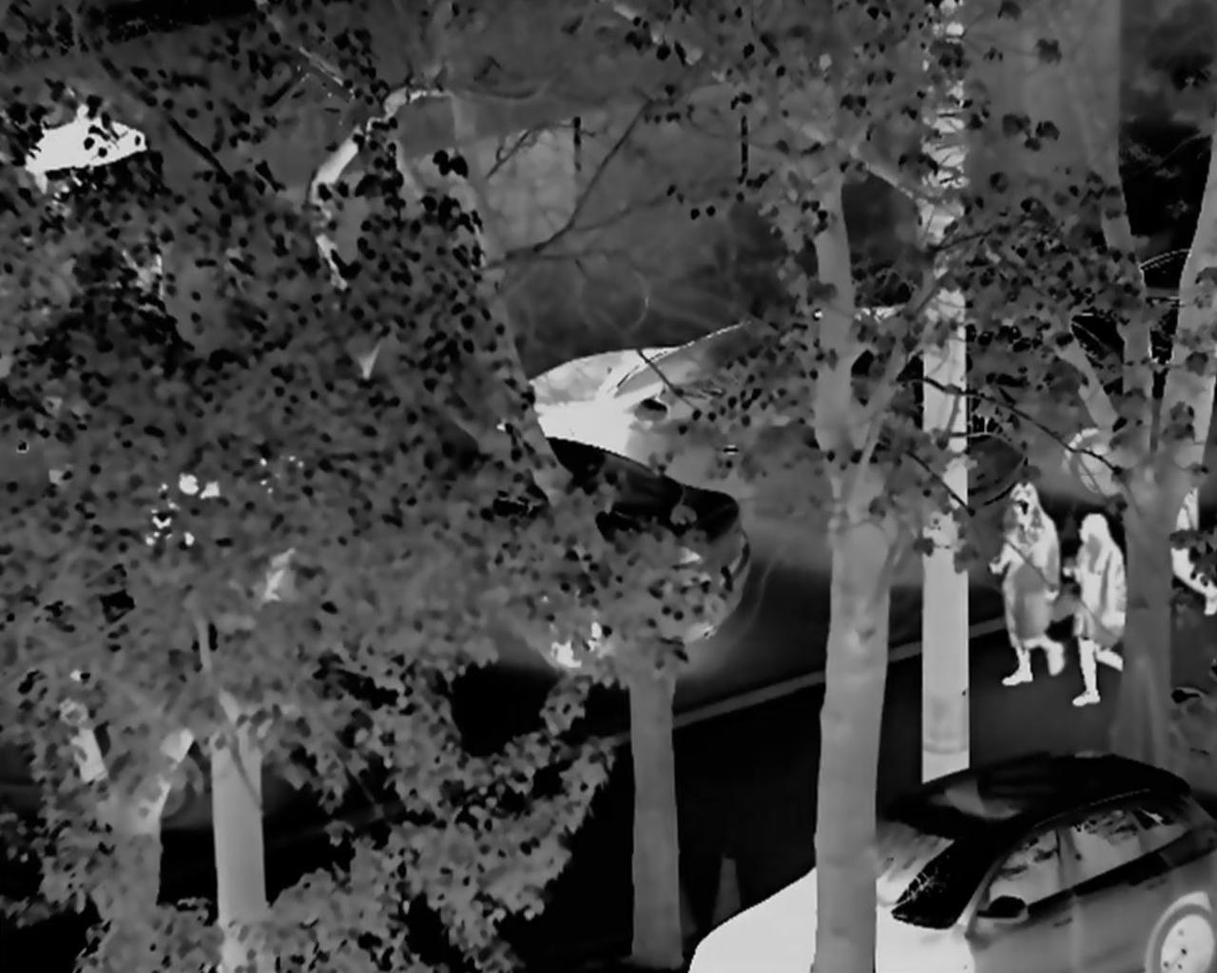person: (994, 478, 1071, 689), (1059, 501, 1131, 711), (1136, 459, 1217, 617)
